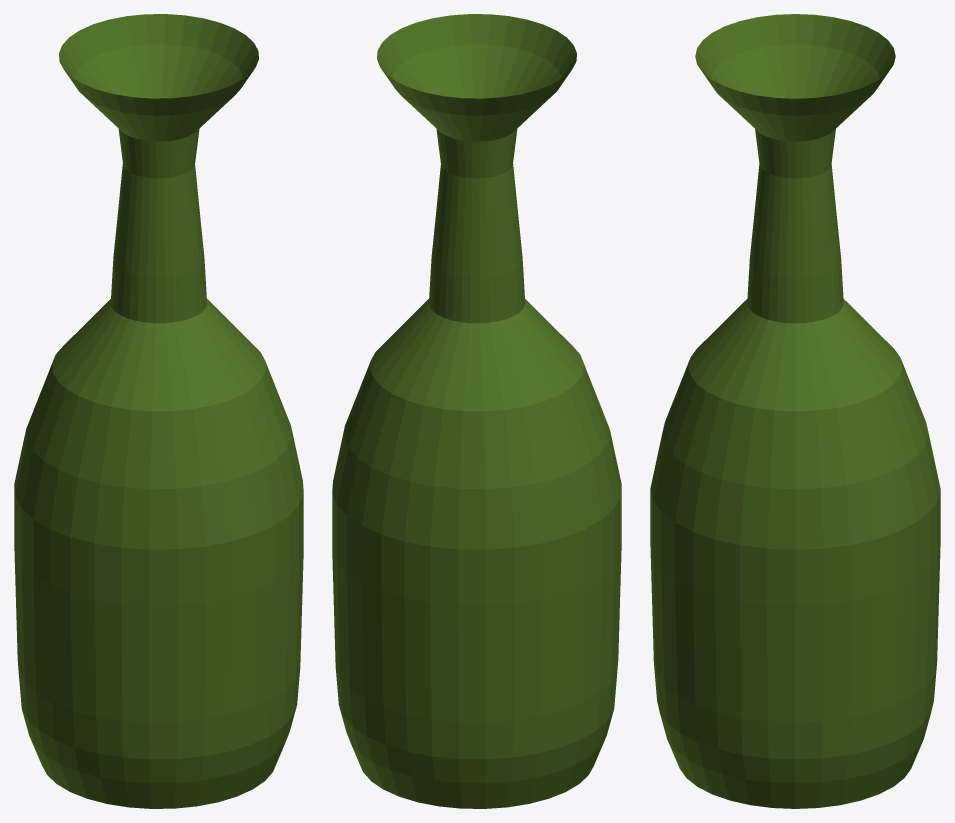
File: tallvase.fbx
3 views of the same model, side by side, from view 1: azimuth 30°, elevation 25°; view 2: azimuth 150°, elevation 25°; view 3: azimuth 270°, elevation 25° (orthographic).
Visible parts, largest first — view 1: Circle; view 2: Circle; view 3: Circle.
Boxes of the visible parts, x1,y1,x2,y2 form: Circle: [14, 14, 303, 808]; Circle: [332, 14, 621, 808]; Circle: [650, 14, 940, 808].
Bounding box in the file's own units: 246 × 658 × 246.
